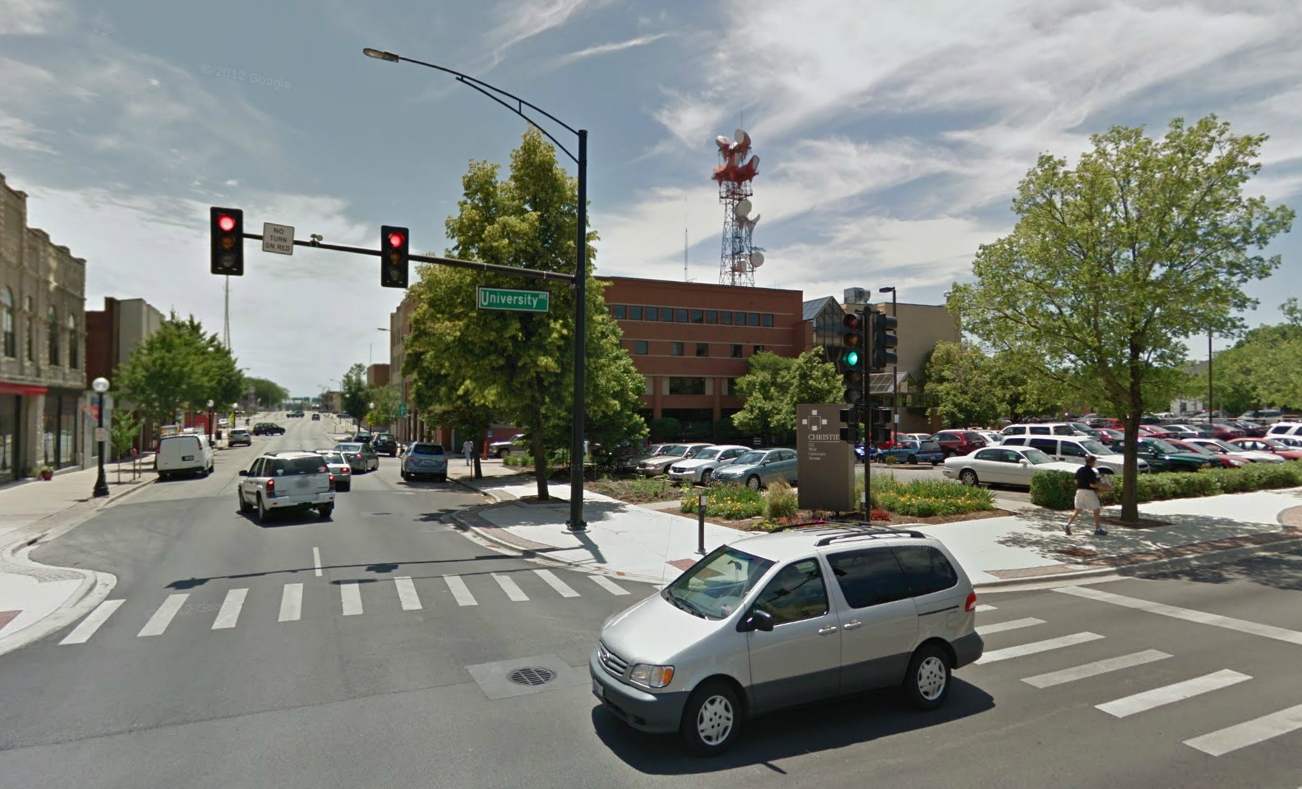traffic_light: (207, 204, 245, 278), (377, 222, 410, 290), (840, 310, 866, 373)
